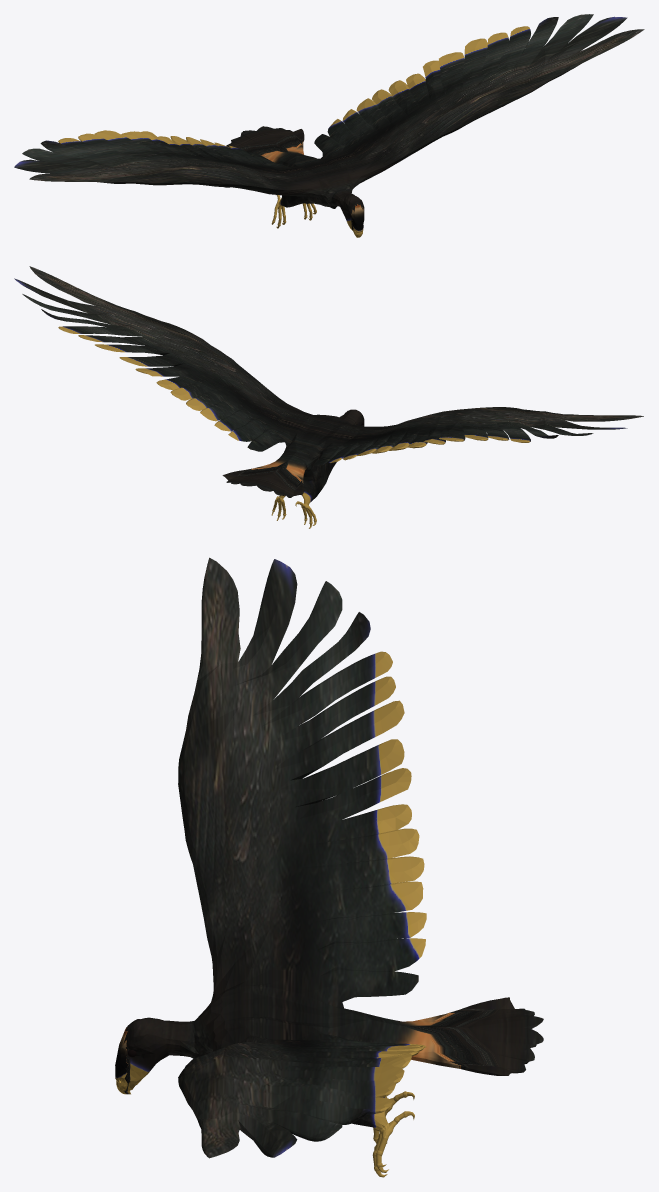
Rendered from condor.obj.
3 views of the same model, one above another, from view 1: azimuth 30°, elevation 25°; view 2: azimuth 150°, elevation 25°; view 3: azimuth 270°, elevation 25° (orthographic). The views are drawn at different scales.
Parts seen in each view (by area): view 1: cndr_body; view 2: cndr_body; view 3: cndr_body.
Boxes of the visible parts, box(x1,y1,x2,y2) form: cndr_body: box(14, 14, 644, 237); cndr_body: box(14, 266, 643, 528); cndr_body: box(115, 557, 543, 1177).
Bounding box in the file's own units: 1.33 × 0.3129 × 0.3999.
